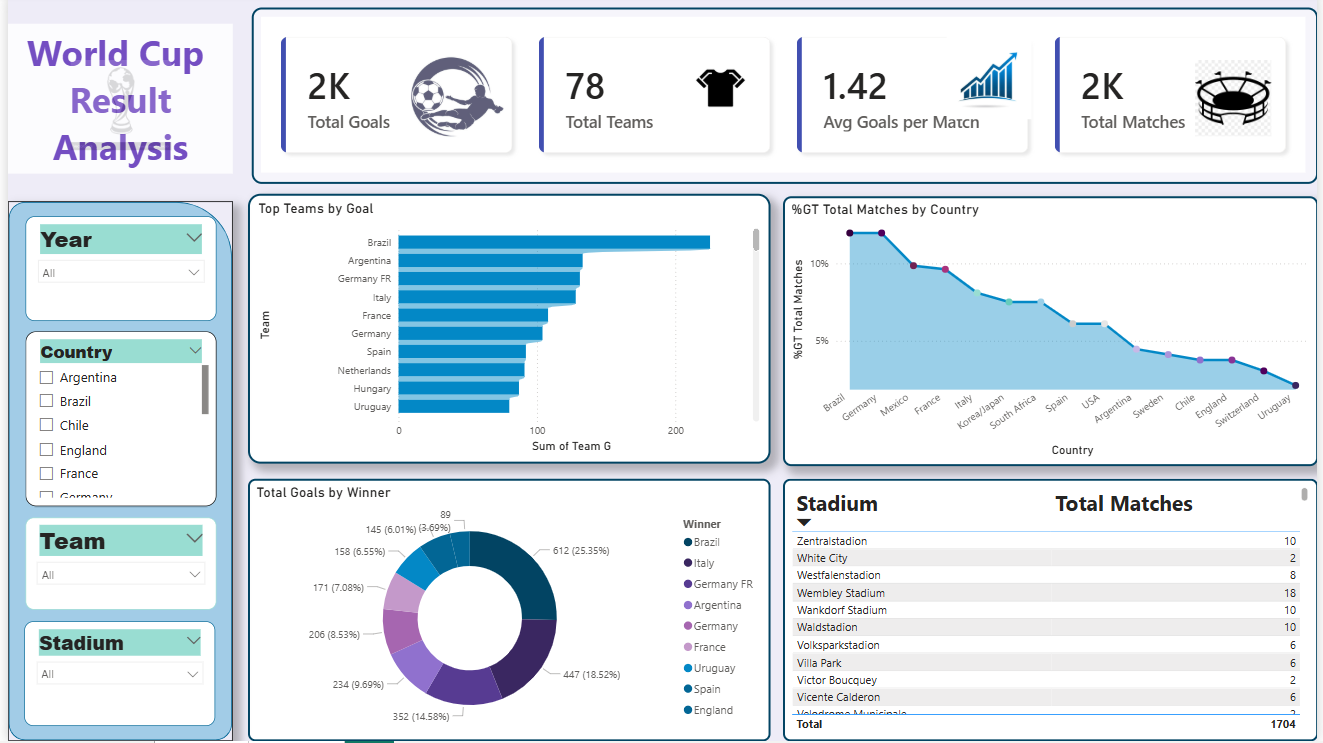

Layout of this report page (visuals, bound fields, positions):
{"tool":"powerbi","page":{"name":"Page 1","canvas":[1580,900],"ordinal":0},"visuals":[{"type":"cardVisual","fields":{"Data":["World Cup - Tableau format.Total Goals","World Cup - Tableau format.Total Teams","World Cup - Tableau format.Avg Goals per Matche","World Cup - Tableau format.Total Matches"]},"box":[294.1,15.1,1286.4,212.6],"z":0},{"type":"barChart","title":"Top Teams by Goal","fields":{"Category":["World Cup - Tableau format.Team"],"Y":["Sum(World Cup - Tableau format.Team G)"]},"box":[289.5,239.8,630.4,325.7],"z":1000},{"type":"areaChart","fields":{"Category":["WorldCups.Country"],"Y":["World Cup - Tableau format.Total Matches"]},"box":[935,242.8,645.4,325.7],"z":2000},{"type":"donutChart","fields":{"Category":["WorldCups.Winner"],"Y":["World Cup - Tableau format.Total Goals"]},"box":[289.5,583.6,630.4,316.7],"z":3000},{"type":"tableEx","fields":{"Values":["World Cup - Tableau format.Stadium","World Cup - Tableau format.Total Matches"]},"box":[935,583.6,645.4,316.7],"z":4000},{"type":"shape","box":[0,248.8,271.4,651.5],"z":5000},{"type":"slicer","fields":{"Values":["WorldCupMatches.Year"]},"box":[21.1,266.9,230.7,126.7],"z":6000},{"type":"slicer","fields":{"Values":["WorldCupMatches.Country"]},"box":[21.1,405.7,230.7,211.1],"z":7000},{"type":"slicer","fields":{"Values":["World Cup - Tableau format.Team"]},"box":[21.1,630.4,230.7,111.6],"z":8000},{"type":"slicer","fields":{"Values":["World Cup - Tableau format.Stadium"]},"box":[19.6,755.5,230.7,126.7],"z":9000},{"type":"textbox","box":[0,34.7,271.4,181],"z":10000},{"type":"image","box":[392.1,58.8,300.1,128.2],"z":11000},{"type":"image","box":[1132.5,34.7,102.5,128.2],"z":12000},{"type":"image","box":[1375.3,78.4,205.1,92],"z":13000},{"type":"image","box":[754,54.3,211.1,116.1],"z":14000},{"type":"image","box":[21.1,78.4,230.7,108.6],"z":15000}]}

Visuals, with their boxes in screenshot pixels (x1, y1, x2, y2), scaled from the page's 1580x900 canvas onto the 1323x743 screenshot:
cardVisual - World Cup - Tableau format.Total Goals x World Cup - Tableau format.Total Teams: l=246, t=12, r=1322, b=188
"Top Teams by Goal" barChart: l=242, t=198, r=770, b=467
areaChart - WorldCups.Country x World Cup - Tableau format.Total Matches: l=783, t=200, r=1322, b=469
donutChart - WorldCups.Winner x World Cup - Tableau format.Total Goals: l=242, t=482, r=770, b=742
tableEx - World Cup - Tableau format.Stadium x World Cup - Tableau format.Total Matches: l=783, t=482, r=1322, b=742
shape: l=0, t=205, r=227, b=742
slicer - WorldCupMatches.Year: l=18, t=220, r=211, b=325
slicer - WorldCupMatches.Country: l=18, t=335, r=211, b=509
slicer - World Cup - Tableau format.Team: l=18, t=520, r=211, b=613
slicer - World Cup - Tableau format.Stadium: l=16, t=624, r=210, b=728
textbox: l=0, t=29, r=227, b=178
image: l=328, t=49, r=580, b=154
image: l=948, t=29, r=1034, b=134
image: l=1152, t=65, r=1322, b=141
image: l=631, t=45, r=808, b=141
image: l=18, t=65, r=211, b=154
